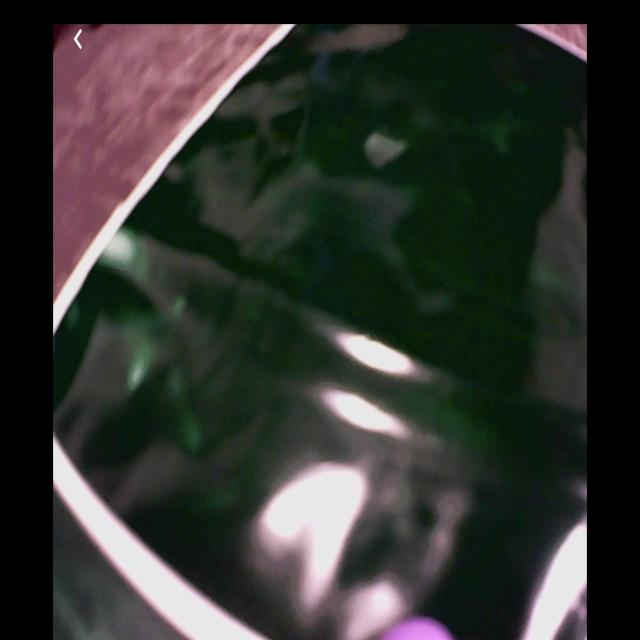ball: (369, 616, 455, 640)
